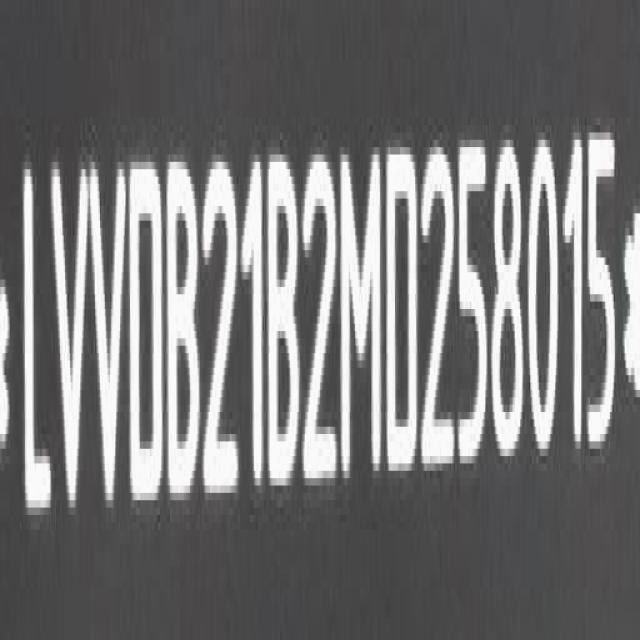0: (527, 134, 561, 464)
1: (242, 151, 264, 507), (562, 124, 584, 460)
2: (302, 150, 340, 496), (206, 157, 242, 516), (421, 144, 456, 484)
5: (459, 137, 491, 478), (590, 126, 620, 456)
8: (492, 134, 526, 467)
B: (166, 154, 202, 514), (267, 149, 299, 502)
D: (128, 153, 164, 516), (387, 143, 421, 484)
L: (19, 151, 52, 530)
M: (342, 144, 386, 491)
V: (90, 151, 130, 521), (50, 156, 90, 524)
